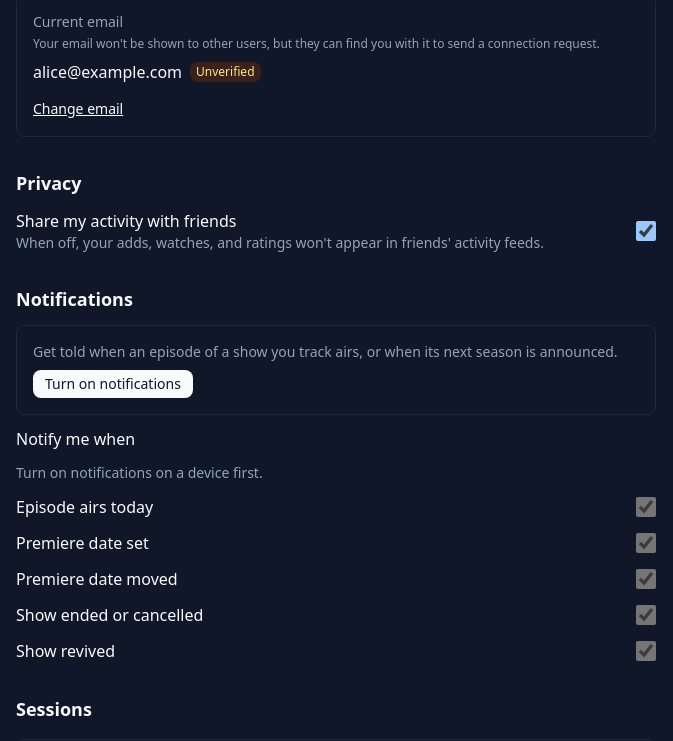
Scenario: Turn on notifications › shows the denied line after a refused prompt, without an error toast
(page scrolled)
Click the button "Turn on notifications".
click(113, 384)  # box [33, 370, 193, 398]
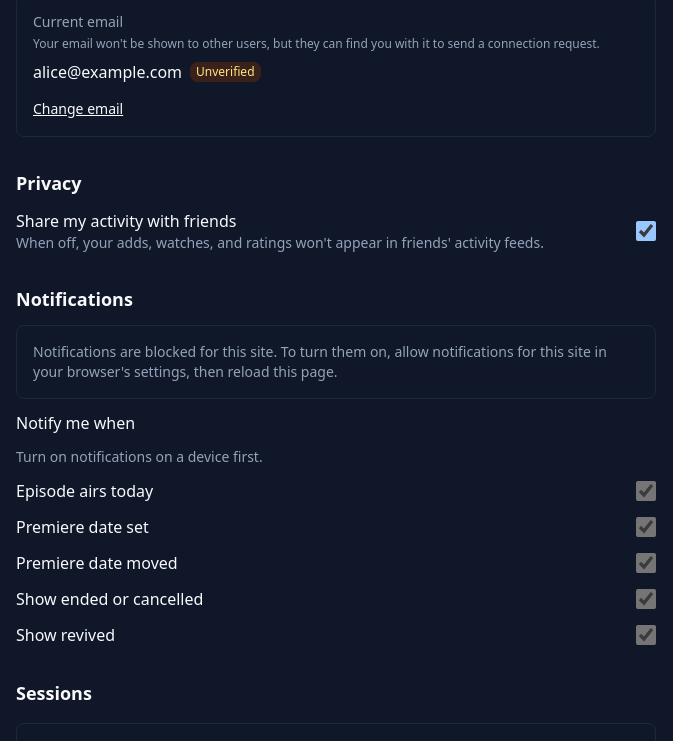
Result: the text "blocked for this site" is shown at [33, 342, 607, 381]
